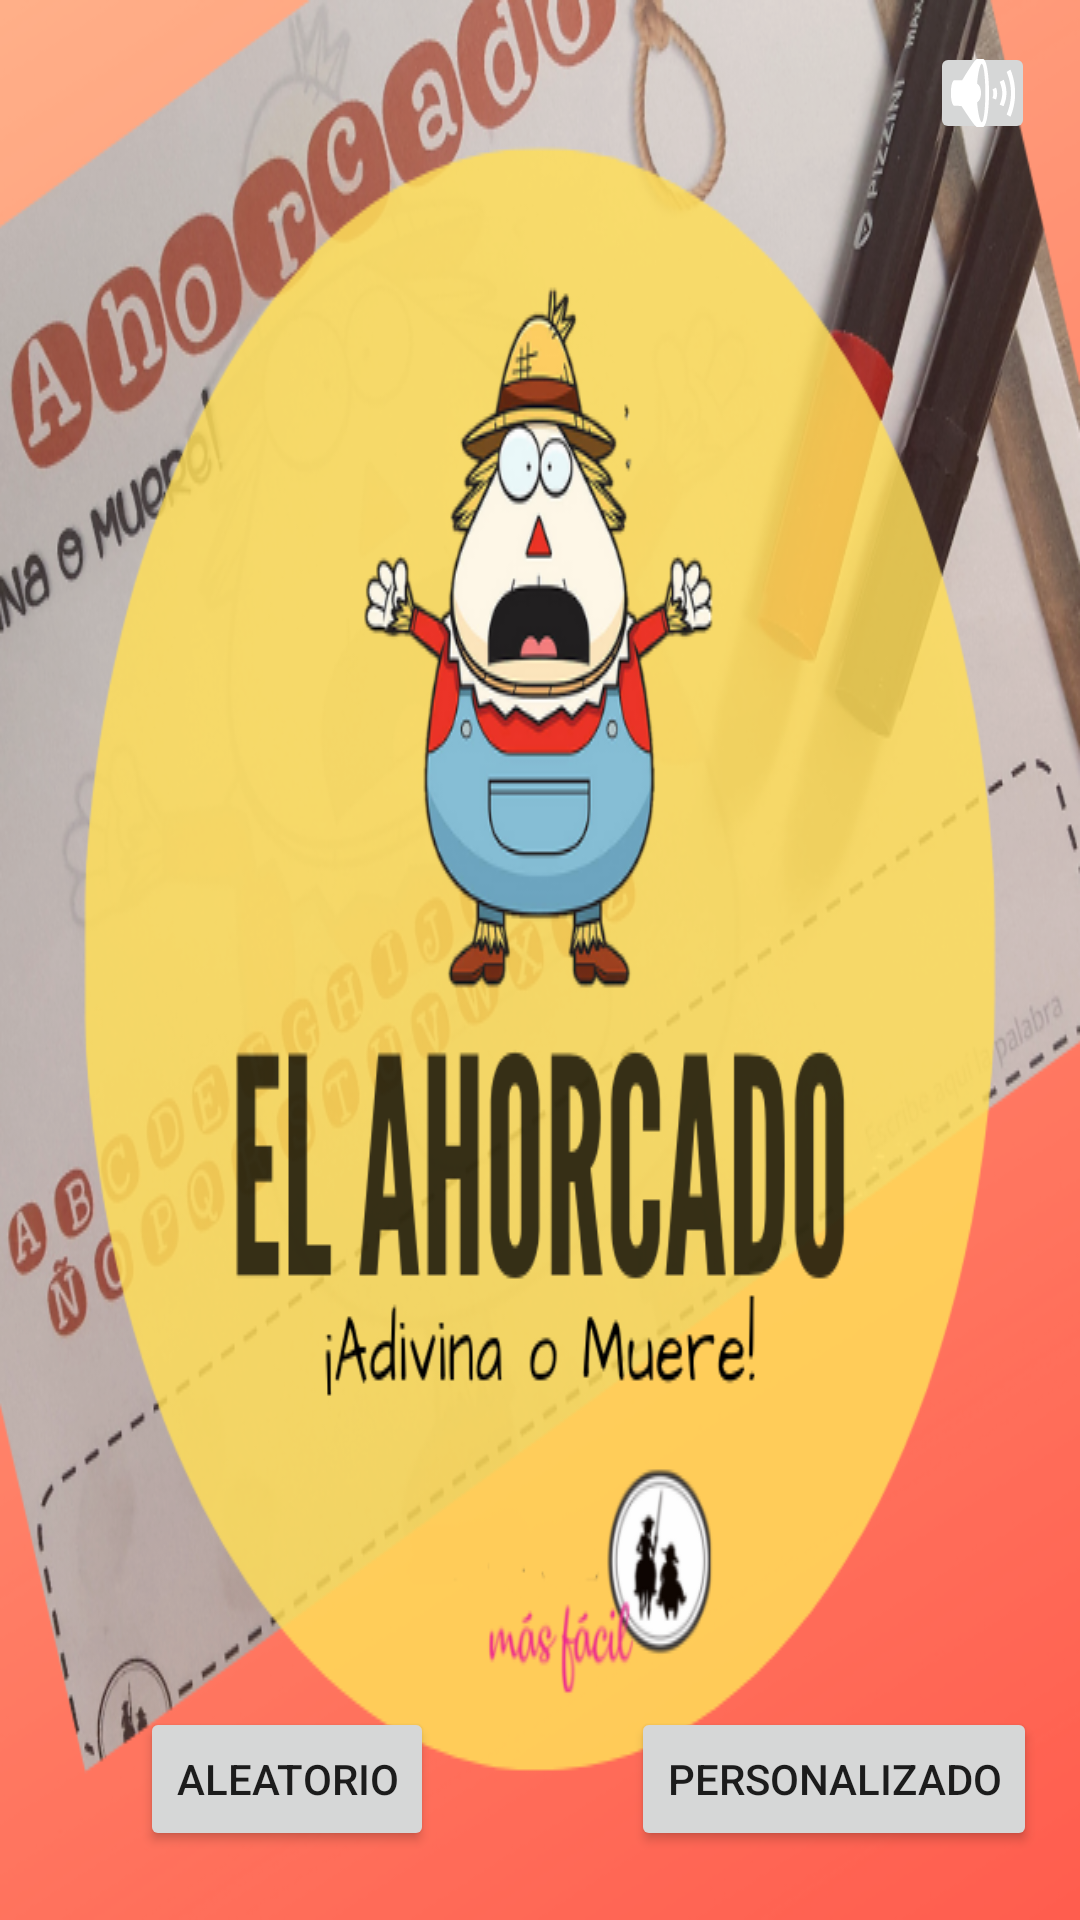

Icons on this 1080px x 1920px Android screen, each with the point to tap as (x=x, y=y):
lock silent mode off: (x=982, y=93)
